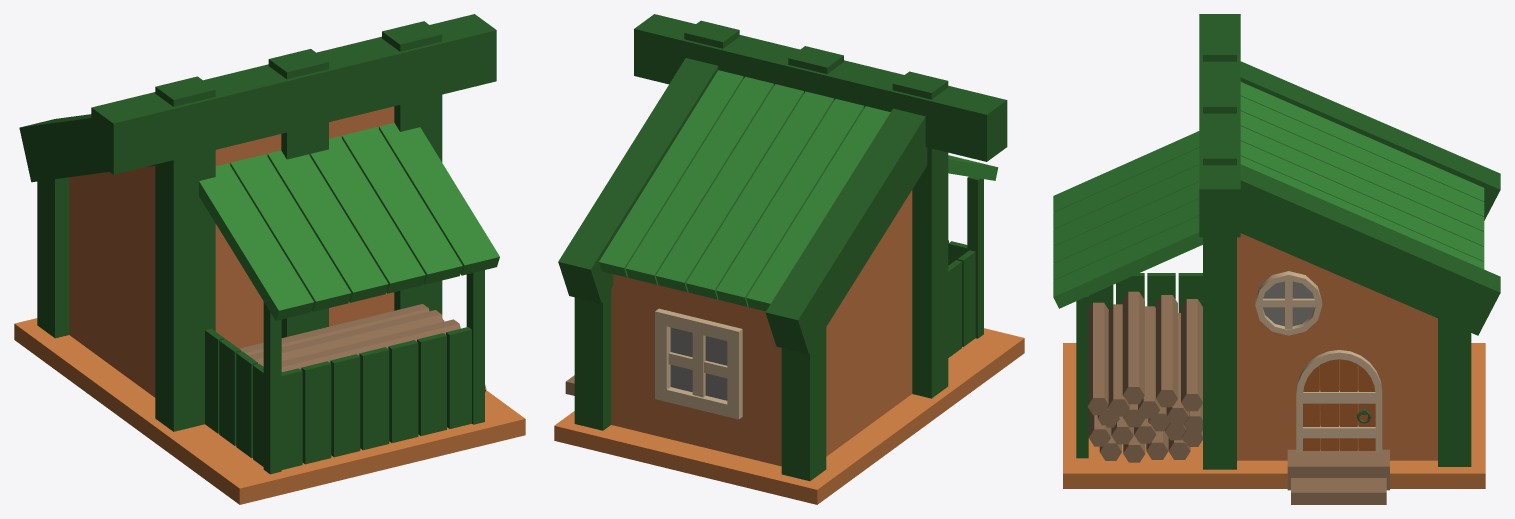
Rendered from LumberHouse.fbx.
3 renders of one model, left to right at view 1: azimuth 30°, elevation 25°; view 2: azimuth 150°, elevation 25°; view 3: azimuth 270°, elevation 25°, orthographic. The views are drawn at different scales.
Parts seen in each view (by area): view 1: LumberHouse; view 2: LumberHouse; view 3: LumberHouse.
Boxes of the visible parts, x1,y1,x2,y2 form: LumberHouse: [14, 14, 525, 504]; LumberHouse: [554, 14, 1024, 504]; LumberHouse: [1053, 14, 1500, 504].
Size of the model in its own units: 346 by 300 by 373.
